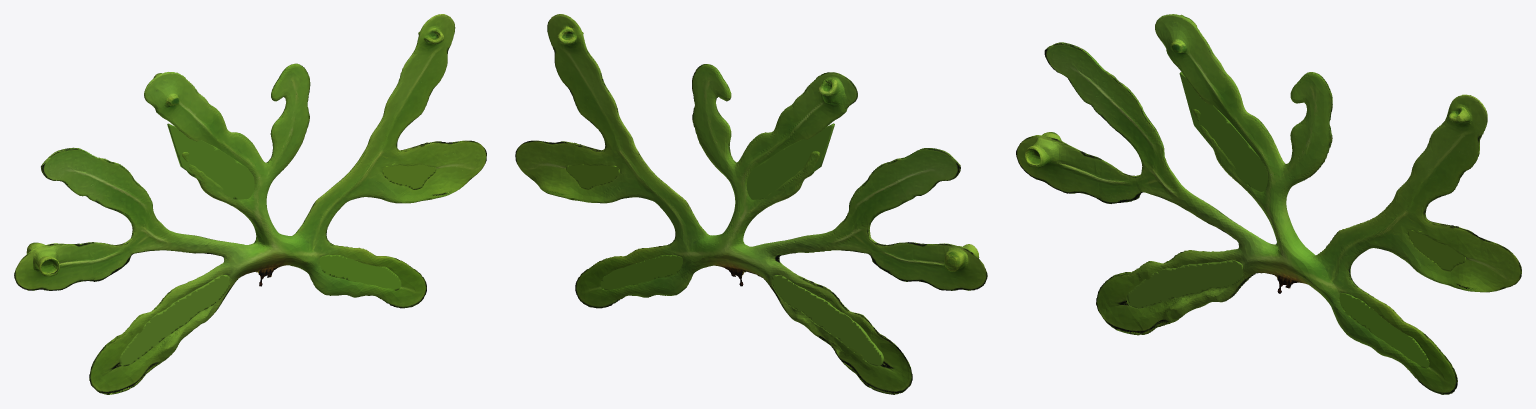
3 views of the same model, side by side, from view 1: azimuth 30°, elevation 25°; view 2: azimuth 150°, elevation 25°; view 3: azimuth 330°, elevation 25° (orthographic). The views are drawn at different scales.
Visible parts, largest first — view 1: world, window0, truncated_inner_slit, window1, window2; view 2: world, window0, truncated_inner_slit, window1, window2; view 3: world, window0, truncated_inner_slit, window1, window2.
Boxes of the visible parts, box(x1,y1,x2,y2) form: world: box(14, 14, 486, 394); window0: box(119, 275, 229, 366); truncated_inner_slit: box(167, 123, 254, 199); window1: box(319, 255, 401, 290); window2: box(382, 163, 436, 189); world: box(515, 14, 987, 394); window0: box(771, 275, 884, 366); truncated_inner_slit: box(746, 123, 834, 199); window1: box(600, 255, 682, 290); window2: box(566, 164, 619, 189); world: box(1016, 14, 1521, 394); window0: box(1126, 260, 1243, 308); truncated_inner_slit: box(1179, 72, 1267, 191); window1: box(1339, 293, 1429, 368); window2: box(1407, 230, 1465, 271).
Bounding box in the file's own units: 0.08 × 0.05 × 0.0063.
Materials: 2 (1 with a texture image).
